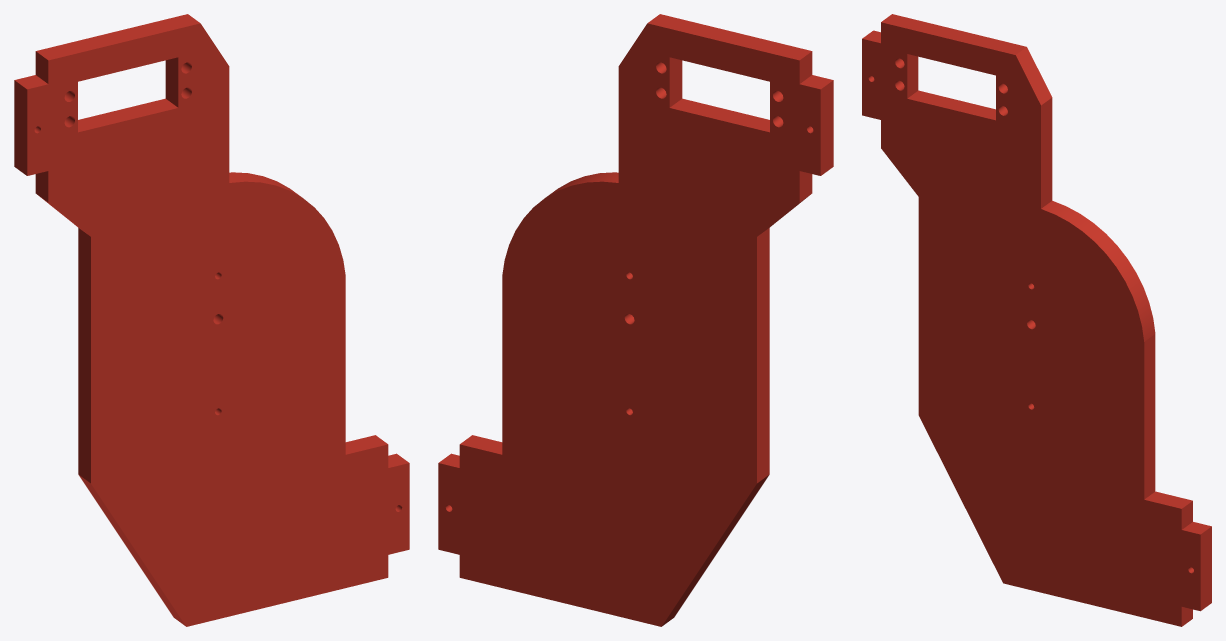
File: slider_merah.obj
3 renders of one model, left to right at view 1: azimuth 30°, elevation 25°; view 2: azimuth 150°, elevation 25°; view 3: azimuth 330°, elevation 25°, orthographic. The views are drawn at different scales.
Visible parts, largest first — view 1: Solid1; view 2: Solid1; view 3: Solid1.
Part boxes in pixels (x1,y1,x2,y2): Solid1: (14, 14, 409, 626); Solid1: (438, 14, 833, 626); Solid1: (862, 14, 1211, 626).
Size of the model in its own units: 0.162 by 0.243 by 0.00935.
